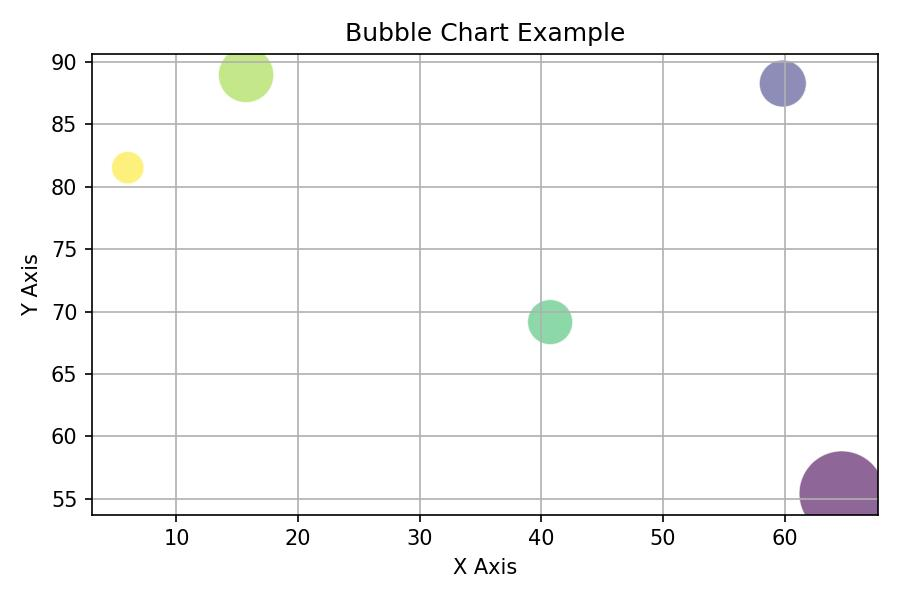axis: (71, 496, 887, 558), (44, 34, 108, 534)
circle: (800, 450, 879, 513), (218, 55, 274, 100), (759, 61, 809, 107), (530, 299, 571, 344), (109, 149, 144, 184)
